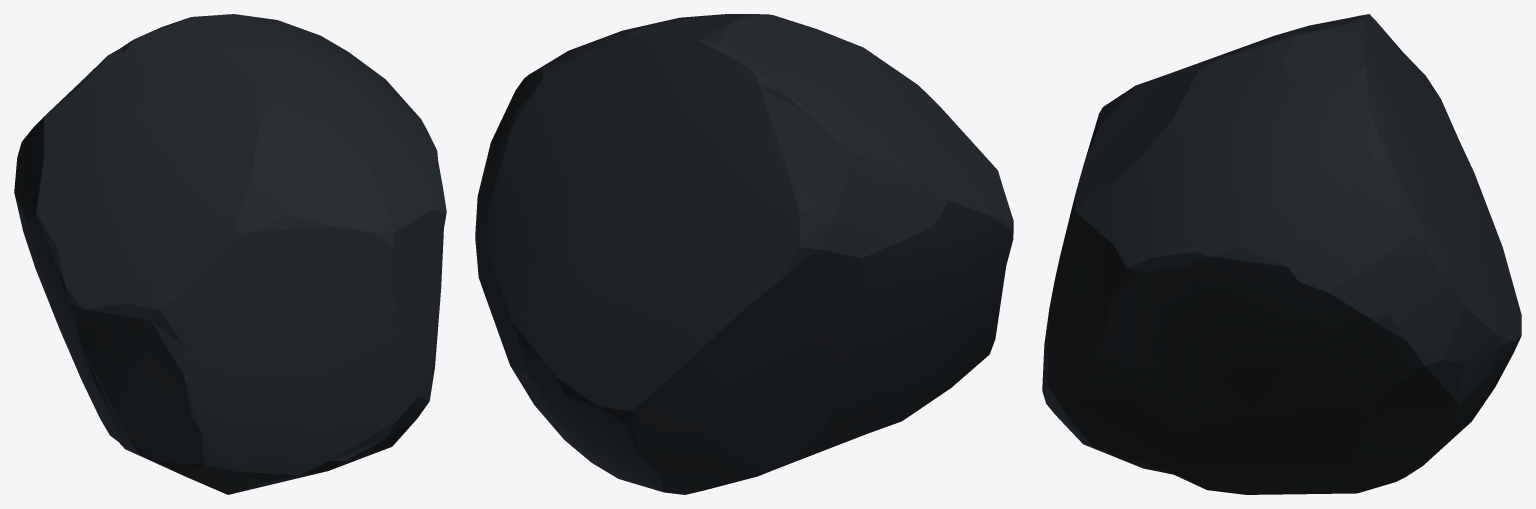
Rendered from Asteroid_m_03.FBX.
The picture shows the model from 3 angles, left to right: view 1: azimuth 30°, elevation 25°; view 2: azimuth 150°, elevation 25°; view 3: azimuth 270°, elevation 25°; orthographic projection. The views are drawn at different scales.
Visible parts, largest first — view 1: Asteroid_m_03; view 2: Asteroid_m_03; view 3: Asteroid_m_03.
Boxes of the visible parts, x1=… form: Asteroid_m_03: x1=14, y1=14, x2=446, y2=494; Asteroid_m_03: x1=475, y1=14, x2=1013, y2=494; Asteroid_m_03: x1=1042, y1=14, x2=1521, y2=494.
Bounding box in the file's own units: 909 × 857 × 882.
